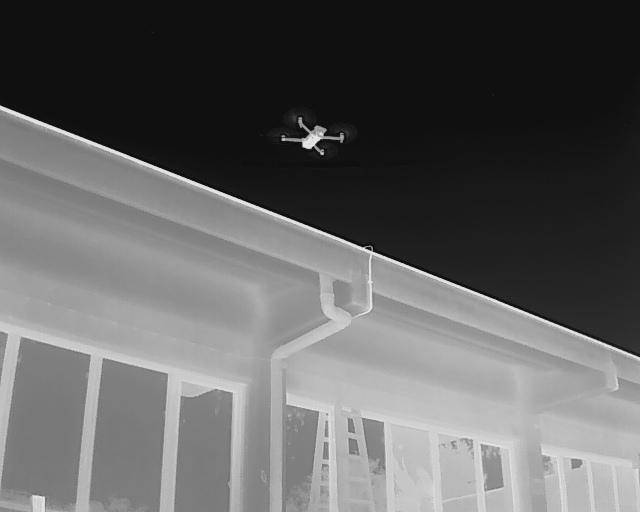drone: (258, 102, 363, 162)
